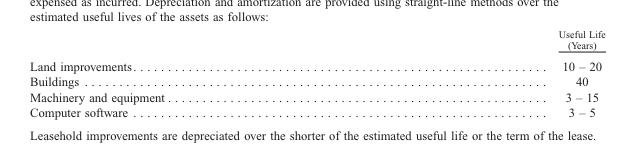table: (29, 28, 604, 118)
table column: (29, 28, 360, 118), (360, 28, 604, 118)
table column header: (29, 28, 604, 54)
table row: (29, 28, 604, 54), (29, 54, 604, 73), (29, 73, 604, 88), (29, 88, 604, 103), (29, 103, 604, 118)
